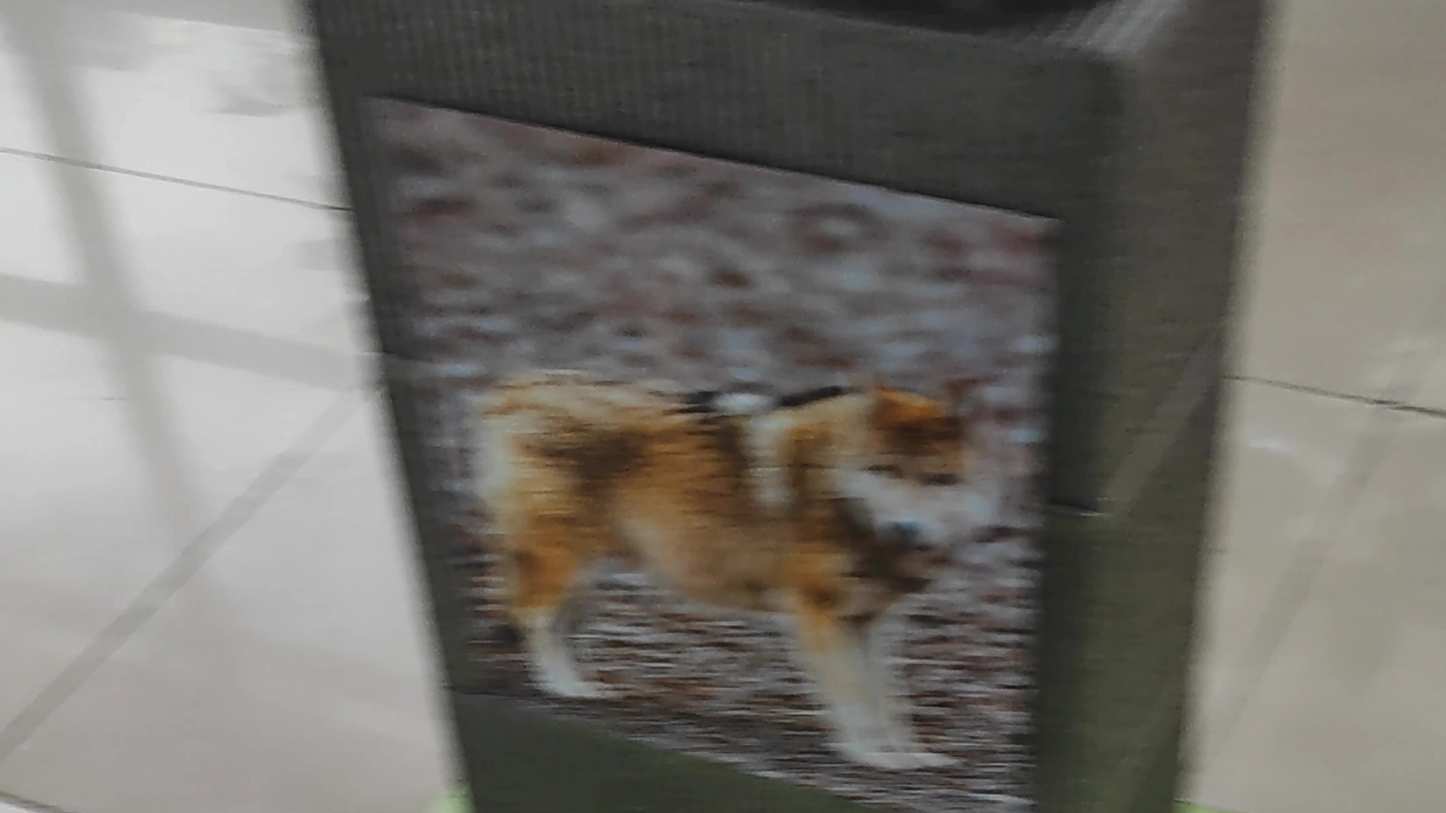wolf: (448, 223, 1000, 763)
